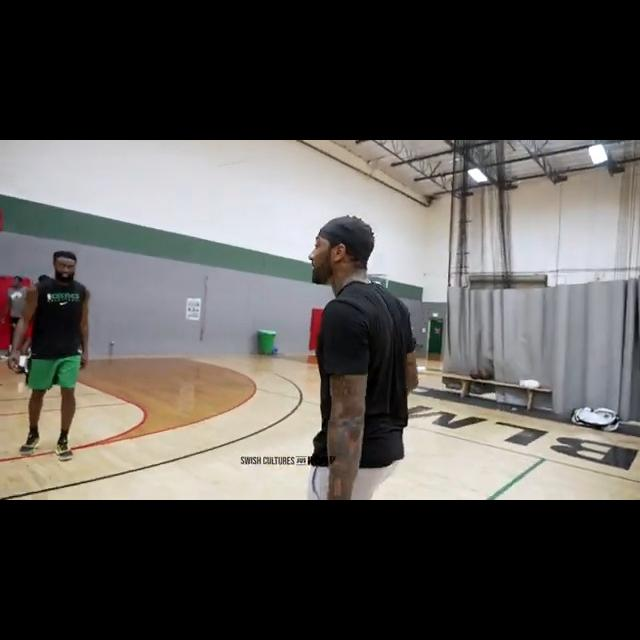basketball: (468, 367, 481, 380), (480, 369, 492, 379)
person: (301, 212, 421, 500), (18, 245, 86, 462), (0, 270, 27, 362)
